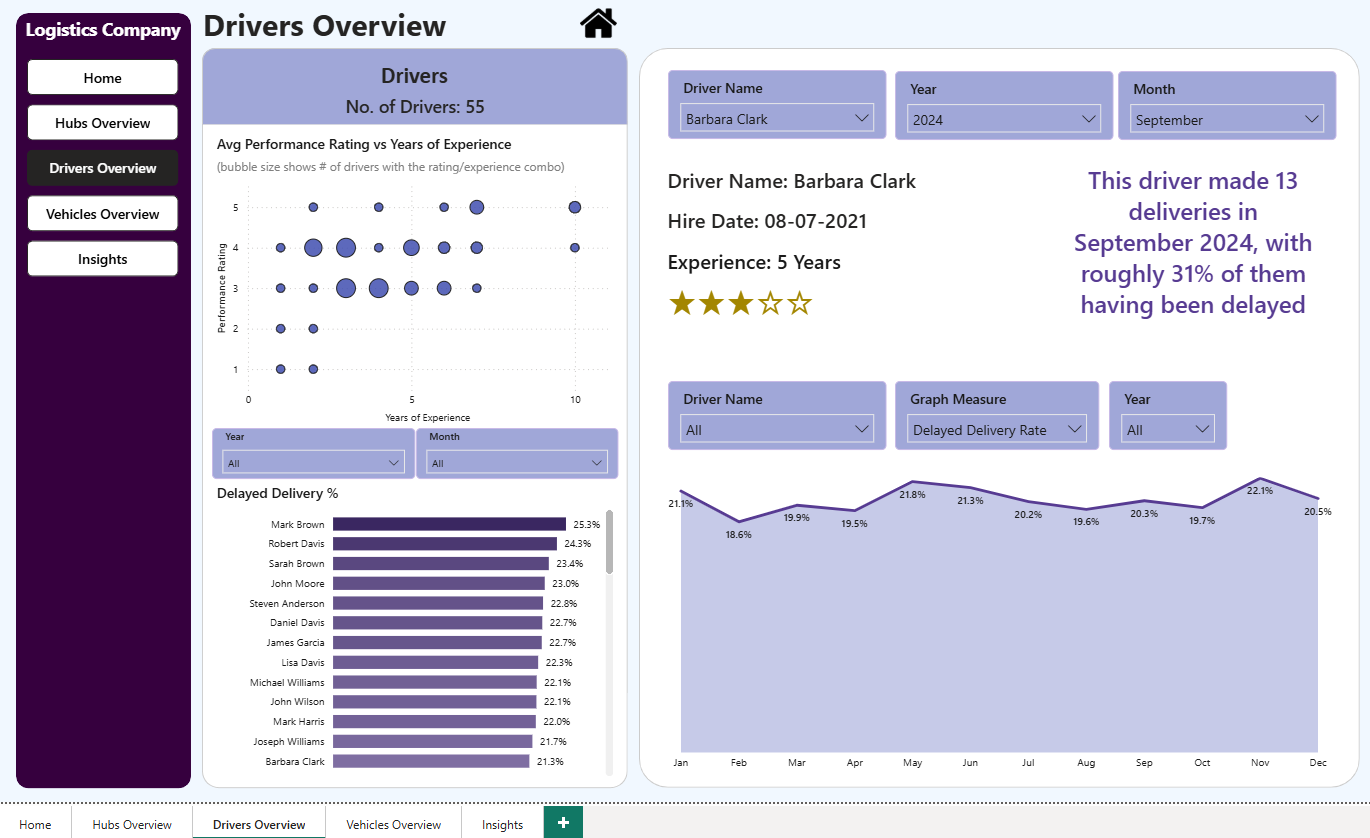

The dashboard page shown, as its layout file describes it:
{"tool":"powerbi","page":{"name":"Drivers Overview","canvas":[1450,850],"ordinal":2},"visuals":[{"type":"shape","box":[676,52.5,762,782],"z":0},{"type":"shape","box":[213.8,52.5,450,782.5],"z":1000},{"type":"shape","box":[16.5,15.4,185.1,819.8],"z":2000},{"type":"textbox","box":[209.3,0,498,62.8],"z":3000},{"type":"shape","box":[213.8,52.5,450,81.2],"z":4000},{"type":"textbox","box":[357.5,62.5,161.7,56],"z":5000},{"type":"cardVisual","fields":{"Data":["Drivers.No of Drivers"]},"box":[340,93.8,197.5,37],"z":6000},{"type":"scatterChart","title":"Avg Performance Rating vs Years of Experience","fields":{"X":["Drivers.Experience Years"],"Y":["Drivers.Performance Rating"],"Size":["CountNonNull(Drivers.DriverID)"]},"box":[224.1,143.8,429.2,311],"z":7000},{"type":"barChart","title":"Delayed Delivery %","fields":{"Category":["Drivers.DriverName"],"Y":["Orders.Delayed Delivery Rate"]},"box":[224.1,512.7,429.2,315],"z":8000},{"type":"image","box":[613,0,38.8,52.5],"z":9000},{"type":"slicer","title":"sfsffssf","fields":{"Values":["Drivers.DriverName"]},"box":[706.2,76.2,231.2,72.5],"z":10000},{"type":"cardVisual","fields":{"Data":["Drivers.Drivers Title"]},"box":[1110.1,155.4,303.4,269.6],"z":11000},{"type":"cardVisual","fields":{"Data":["Drivers.Driver Name Title","Drivers.Hire Date Title","Drivers.YOE","Drivers.Star Rating"]},"box":[676.6,155.4,415.5,199.8],"z":12000},{"type":"slicer","fields":{"Values":["Select Measure.Select Measure"]},"box":[946.2,405,216.2,72.5],"z":13000},{"type":"pageNavigator","box":[28.8,65,160,231.2],"z":14000},{"type":"slicer","fields":{"Values":["Date Table.Year"]},"box":[1172.5,405,125,72.5],"z":15000},{"type":"slicer","title":"sfsffssf","fields":{"Values":["Drivers.DriverName"]},"box":[706.2,405,231.2,72.5],"z":16000},{"type":"areaChart","fields":{"Y":["Orders.Delayed Delivery Rate"],"Category":["Date Table.Month Abr"]},"box":[690.4,493.7,732.6,333],"z":17000},{"type":"textbox","box":[20,15,177.5,35],"z":18000},{"type":"slicer","title":"sfsffssf","fields":{"Values":["Date Table.Year"]},"box":[224.1,454.6,214.6,53.9],"z":19000},{"type":"slicer","title":"sfsffssf","fields":{"Values":["Date Table.Month"]},"box":[439.8,454.6,213.6,53.9],"z":20000},{"type":"slicer","title":"sfsffssf","fields":{"Values":["Date Table.Year"]},"box":[946.2,77.2,231.2,72.5],"z":21000},{"type":"slicer","title":"sfsffssf","fields":{"Values":["Date Table.Month"]},"box":[1182,77.2,231.2,72.5],"z":22000}]}

Visuals, with their boxes on the page's 1450x850 design canvas (x1, y1, x2, y2). These are canvas units, not pixel positions in the 1370x838 screenshot, which may show the page scaled, cropped or inside an application window:
shape: <bbox>676, 52, 1438, 834</bbox>
shape: <bbox>214, 52, 664, 835</bbox>
shape: <bbox>16, 15, 202, 835</bbox>
textbox: <bbox>209, 0, 707, 63</bbox>
shape: <bbox>214, 52, 664, 134</bbox>
textbox: <bbox>358, 62, 519, 118</bbox>
cardVisual - Drivers.No of Drivers: <bbox>340, 94, 538, 131</bbox>
"Avg Performance Rating vs Years of Experience" scatterChart: <bbox>224, 144, 653, 455</bbox>
"Delayed Delivery %" barChart: <bbox>224, 513, 653, 828</bbox>
image: <bbox>613, 0, 652, 52</bbox>
"sfsffssf" slicer: <bbox>706, 76, 937, 149</bbox>
cardVisual - Drivers.Drivers Title: <bbox>1110, 155, 1414, 425</bbox>
cardVisual - Drivers.Driver Name Title x Drivers.Hire Date Title: <bbox>677, 155, 1092, 355</bbox>
slicer - Select Measure.Select Measure: <bbox>946, 405, 1162, 478</bbox>
pageNavigator: <bbox>29, 65, 189, 296</bbox>
slicer - Date Table.Year: <bbox>1172, 405, 1298, 478</bbox>
"sfsffssf" slicer: <bbox>706, 405, 937, 478</bbox>
areaChart - Orders.Delayed Delivery Rate x Date Table.Month Abr: <bbox>690, 494, 1423, 827</bbox>
textbox: <bbox>20, 15, 198, 50</bbox>
"sfsffssf" slicer: <bbox>224, 455, 439, 508</bbox>
"sfsffssf" slicer: <bbox>440, 455, 653, 508</bbox>
"sfsffssf" slicer: <bbox>946, 77, 1177, 150</bbox>
"sfsffssf" slicer: <bbox>1182, 77, 1413, 150</bbox>
